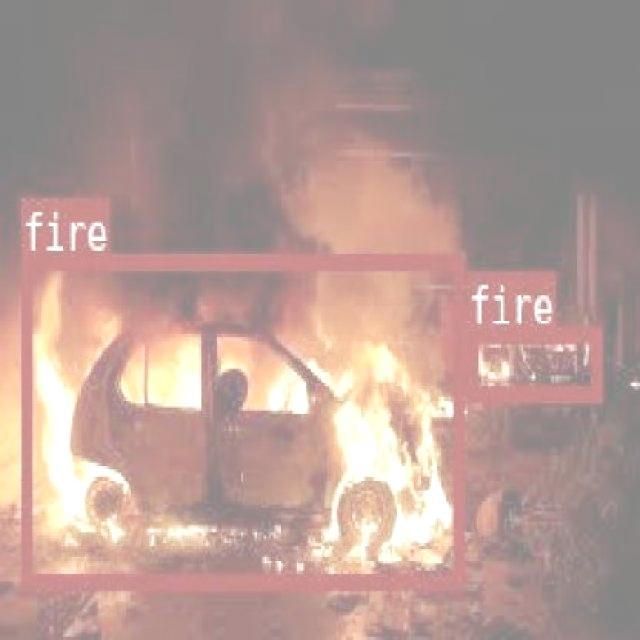fire: (19, 252, 461, 586), (466, 324, 600, 400)
